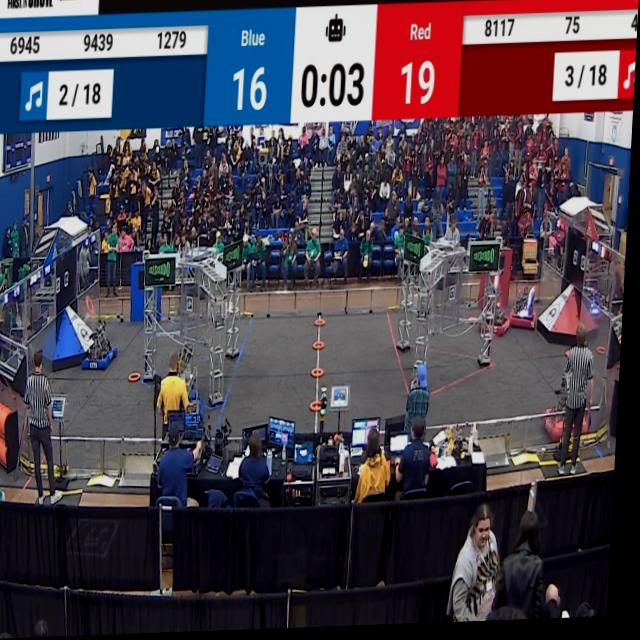Robot: (544, 342, 600, 446), (480, 275, 517, 344), (509, 264, 546, 330), (81, 318, 125, 373), (189, 379, 220, 430), (191, 349, 213, 411)
